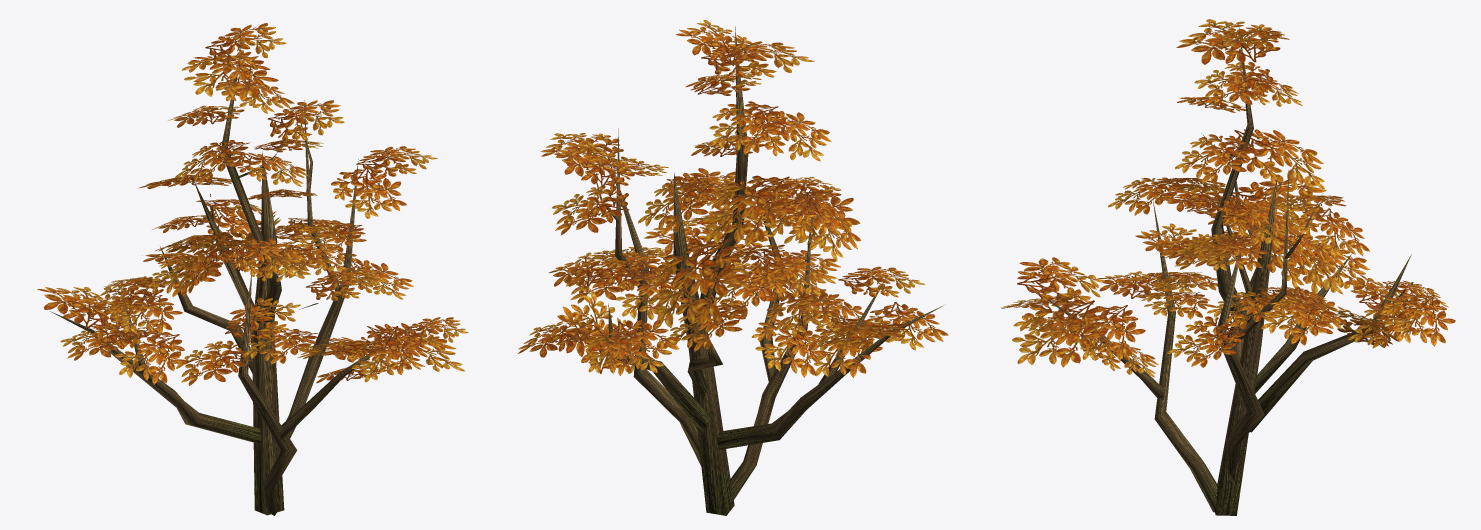
Rendered from S_Tree_Yellow002.FBX.
The picture shows the model from 3 angles, left to right: view 1: azimuth 30°, elevation 25°; view 2: azimuth 150°, elevation 25°; view 3: azimuth 270°, elevation 25°; orthographic projection. The views are drawn at different scales.
Visible parts, largest first — view 1: S_Tree_Yellow002; view 2: S_Tree_Yellow002; view 3: S_Tree_Yellow002.
Part boxes in pixels (<box>): S_Tree_Yellow002: <box>37,23,468,515</box>; S_Tree_Yellow002: <box>518,20,948,515</box>; S_Tree_Yellow002: <box>1001,19,1455,515</box>.
Size of the model in its own units: 426 by 437 by 491.
